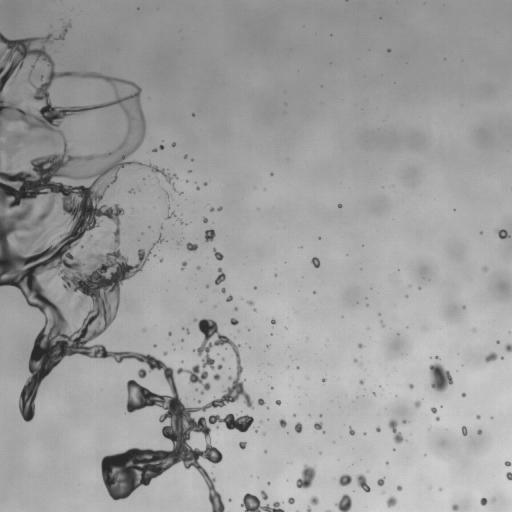droplet: (429, 363, 453, 391), (296, 465, 315, 489), (335, 494, 351, 511), (356, 474, 370, 492), (215, 268, 225, 284), (339, 474, 351, 486), (205, 229, 215, 242), (314, 422, 325, 433), (213, 248, 223, 260), (485, 352, 497, 362), (386, 496, 396, 507), (497, 229, 509, 238), (186, 242, 198, 251), (311, 257, 320, 268), (138, 368, 147, 378), (294, 422, 302, 433), (310, 496, 319, 505), (261, 491, 268, 500), (230, 318, 238, 325), (279, 419, 286, 427), (377, 477, 384, 485), (461, 426, 467, 435), (213, 373, 220, 380), (480, 498, 487, 505), (505, 343, 511, 351), (349, 427, 355, 435), (258, 398, 264, 405), (414, 400, 420, 407), (239, 442, 246, 448), (288, 497, 294, 504), (452, 504, 458, 511), (181, 261, 186, 269), (506, 472, 511, 480), (226, 295, 232, 301), (430, 407, 436, 413), (504, 461, 511, 466), (247, 300, 253, 305), (271, 318, 276, 324), (396, 485, 402, 490), (358, 343, 363, 348), (217, 364, 222, 369), (275, 400, 280, 405), (128, 189, 134, 193), (203, 217, 207, 222), (178, 219, 183, 223), (483, 266, 487, 271), (408, 384, 413, 388), (461, 392, 465, 397), (306, 507, 311, 511), (159, 145, 163, 149), (218, 206, 222, 210), (221, 288, 225, 292), (163, 351, 167, 355), (353, 358, 357, 362), (359, 380, 363, 384), (476, 415, 480, 419), (376, 427, 380, 431), (477, 430, 481, 434), (381, 322, 384, 327), (210, 208, 214, 211), (159, 258, 163, 261), (172, 143, 175, 146), (153, 148, 156, 151), (338, 204, 341, 207), (234, 307, 237, 310), (168, 332, 171, 335), (435, 356, 438, 359), (358, 362, 361, 365), (436, 417, 439, 420), (403, 420, 406, 423), (184, 155, 187, 157), (204, 182, 206, 185), (196, 187, 199, 189), (167, 205, 169, 208), (197, 266, 199, 269), (254, 286, 256, 289), (462, 306, 465, 308), (322, 379, 325, 381), (267, 482, 270, 484), (228, 499, 231, 501), (165, 191, 167, 193), (131, 208, 133, 210), (160, 225, 162, 227), (313, 291, 315, 293), (254, 309, 256, 311), (181, 339, 183, 341), (267, 345, 269, 347), (222, 358, 224, 360), (198, 400, 200, 402), (293, 414, 295, 416), (386, 462, 388, 464), (439, 488, 441, 490)
ligament: (0, 33, 253, 511), (240, 493, 284, 511), (388, 419, 404, 443), (57, 24, 71, 39), (27, 63, 34, 86), (165, 212, 176, 219), (183, 327, 189, 333), (326, 510, 330, 511)
